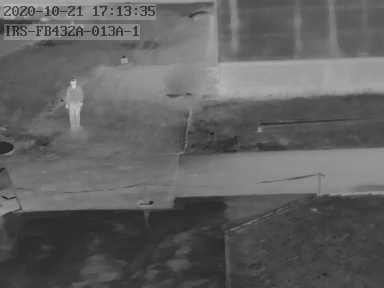person: (61, 77, 85, 127)
